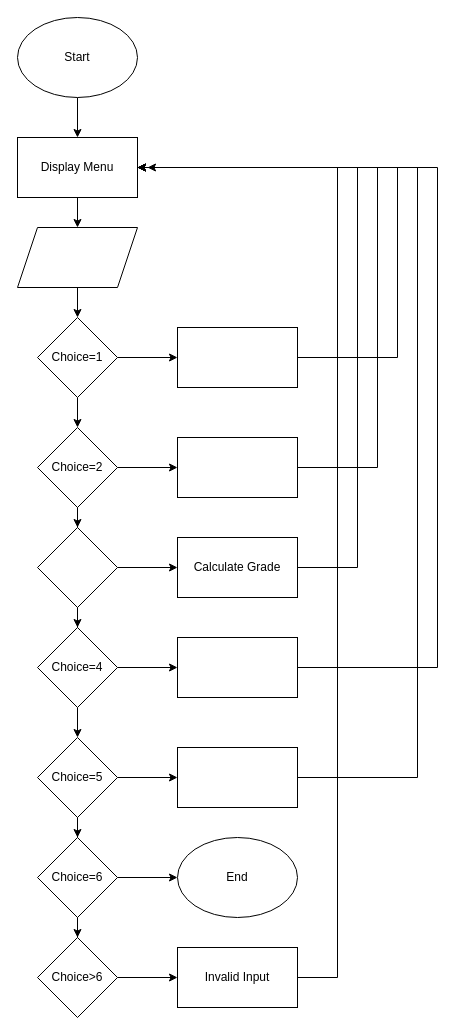
Image size: 463x1035. Some labels were removed from this diagram. Here are the shapes that lost their labels. From the top down, the box of each, then its label:
(16, 226, 138, 288): Get User Choice
(176, 326, 298, 388): Add Student
(176, 436, 298, 498): Record Grade
(36, 526, 118, 608): Choice=3
(176, 636, 298, 698): Highest and Lowest Grade
(176, 746, 298, 808): Display Record
